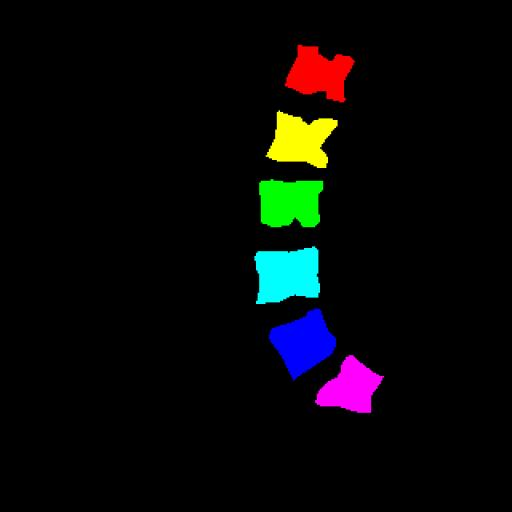L1: (285, 45, 355, 102)
L2: (266, 111, 338, 168)
L3: (259, 180, 323, 227)
L4: (256, 248, 320, 304)
L5: (270, 309, 336, 379)
S1: (315, 355, 383, 413)
